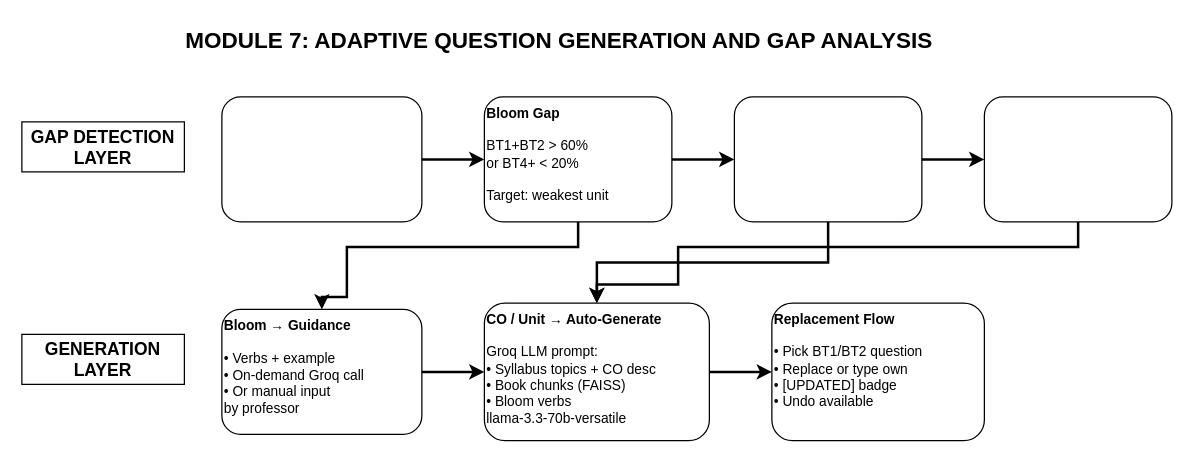
The diagram is 1194 pixels wide and 463 high, and some of its shapes have lost their labels. The centre of each missing label's shape, as x and y in pixels:
CO Gap Missing: count = 0 Underrep: count < 2 CO→Unit: semantic sim: point 827,159
Evaluated Results • unit • bloom_level • course_outcomes (top-1 per question): point 321,159
Unit Gap Unit with zero questions mapped in the paper: point 1077,159
